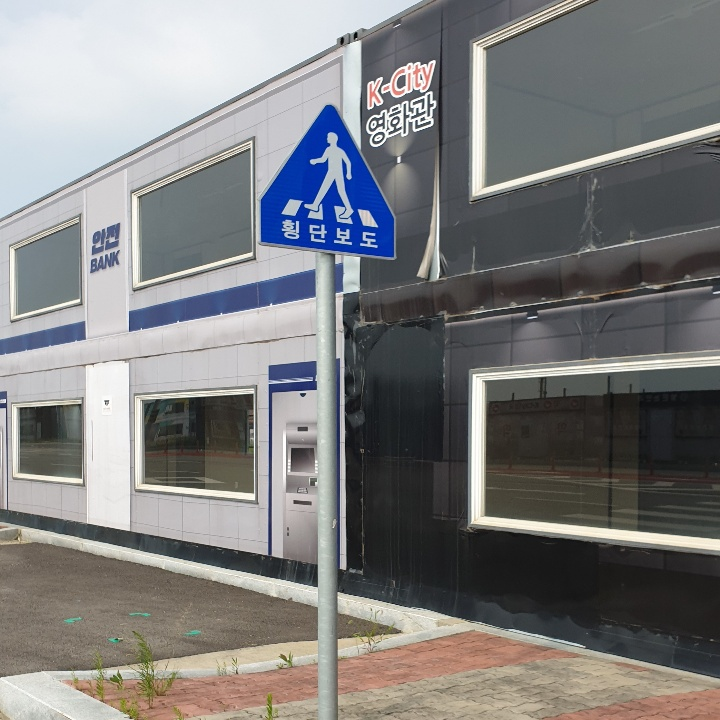cross: (299, 124, 365, 225)
